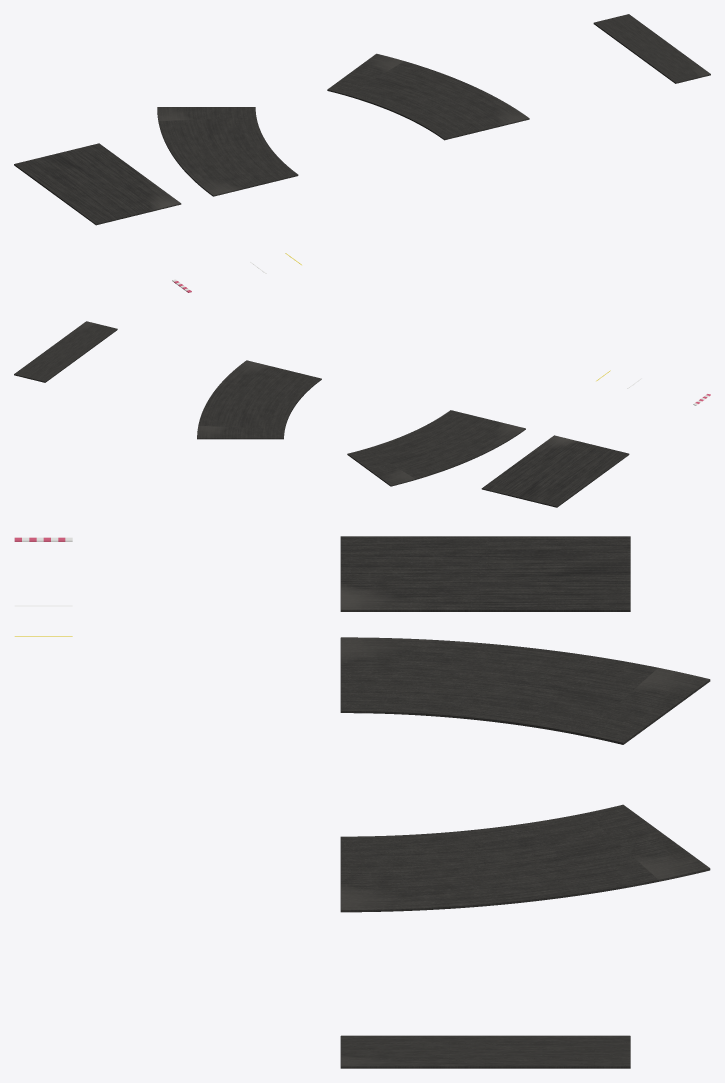
File: circuit-kit.glb
3 views of the same model, one above another, from view 1: azimuth 30°, elevation 25°; view 2: azimuth 150°, elevation 25°; view 3: azimuth 270°, elevation 25° (orthographic). The views are drawn at different scales.
Parts seen in each view (by area): view 1: Road_Turn_Right, Road_Turn_Left, Road_Straight, Road_Pit_Lane; view 2: Road_Turn_Left, Road_Turn_Right, Road_Straight, Road_Pit_Lane; view 3: Road_Turn_Left, Road_Turn_Right, Road_Straight, Road_Pit_Lane.
Boxes of the visible parts, x1=… form: Road_Turn_Right: x1=327, y1=53, x2=529, y2=140; Road_Turn_Left: x1=157, y1=107, x2=298, y2=196; Road_Straight: x1=14, y1=143, x2=181, y2=225; Road_Pit_Lane: x1=593, y1=14, x2=710, y2=83; Road_Turn_Left: x1=347, y1=410, x2=525, y2=486; Road_Turn_Right: x1=197, y1=360, x2=321, y2=439; Road_Straight: x1=481, y1=435, x2=629, y2=507; Road_Pit_Lane: x1=14, y1=321, x2=117, y2=382; Road_Turn_Left: x1=340, y1=637, x2=710, y2=744; Road_Turn_Right: x1=340, y1=804, x2=710, y2=912; Road_Straight: x1=340, y1=536, x2=630, y2=611; Road_Pit_Lane: x1=340, y1=1035, x2=630, y2=1068.
Bounding box in the file's own units: 86.56 × 0.18 × 47.99.
8 materials, 4 textured.
